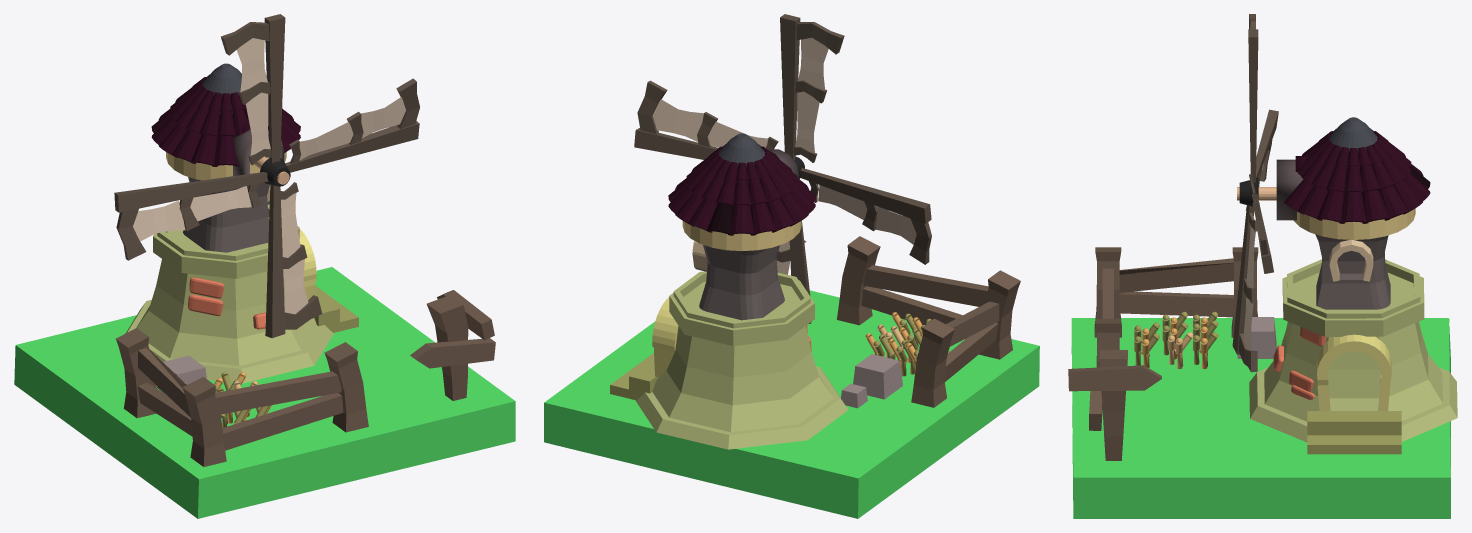
3 renders of one model, left to right at view 1: azimuth 30°, elevation 25°; view 2: azimuth 150°, elevation 25°; view 3: azimuth 270°, elevation 25°, orthographic. The views are drawn at different scales.
Visible parts, largest first — view 1: Plane.005, Circle, Plane.007, Plane.001, Plane.003, Circle.007, Plane.021, Plane.024, Plane.012, Plane.008, Plane.009, Plane.020 (+20 smaller); view 2: Plane.005, Circle, Circle.007, Plane.001, Plane.007, Plane.003, Plane.024, Plane.019, Plane.020, Plane.002, Plane.004, Circle.008 (+13 smaller); view 3: Plane.005, Circle, Circle.007, Circle.004, Plane.022, Plane.023, Circle.009, Plane.010, Circle.008, Circle.094, Plane.001, Plane.012 (+19 smaller).
Boxes of the visible parts, x1,y1,x2,y2 form: Plane.005: [14, 267, 515, 518]; Circle: [126, 204, 333, 383]; Plane.007: [114, 172, 268, 260]; Plane.001: [221, 14, 285, 165]; Plane.003: [285, 78, 419, 172]; Circle.007: [183, 177, 269, 252]; Plane.021: [222, 393, 343, 450]; Plane.024: [215, 371, 341, 414]; Plane.012: [182, 376, 226, 466]; Plane.008: [133, 186, 251, 241]; Plane.009: [265, 184, 285, 338]; Plane.020: [324, 342, 368, 432]; Plane.005: [544, 290, 1039, 518]; Circle: [635, 271, 848, 449]; Circle.007: [695, 245, 784, 320]; Plane.001: [780, 14, 844, 162]; Plane.007: [800, 168, 931, 264]; Plane.003: [634, 80, 778, 159]; Plane.024: [863, 265, 988, 306]; Plane.019: [911, 318, 954, 407]; Plane.020: [837, 236, 880, 325]; Plane.002: [795, 37, 828, 153]; Plane.004: [652, 99, 768, 147]; Circle.008: [682, 221, 801, 250]; Plane.005: [1071, 318, 1450, 518]; Circle: [1249, 259, 1457, 442]; Circle.007: [1315, 234, 1390, 309]; Circle.004: [1307, 411, 1401, 454]; Plane.022: [1119, 258, 1233, 292]; Plane.023: [1119, 291, 1233, 317]; Circle.009: [1317, 334, 1391, 411]; Plane.010: [1068, 365, 1161, 391]; Circle.008: [1293, 208, 1415, 239]; Circle.094: [1099, 350, 1127, 460]; Plane.001: [1248, 14, 1258, 182]; Plane.012: [1094, 247, 1121, 337].
Size of the model in its own units: 8 by 9.56 by 8.25.
